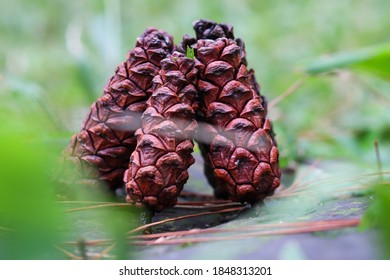Pc: (191, 19, 282, 201), (120, 54, 201, 209)
